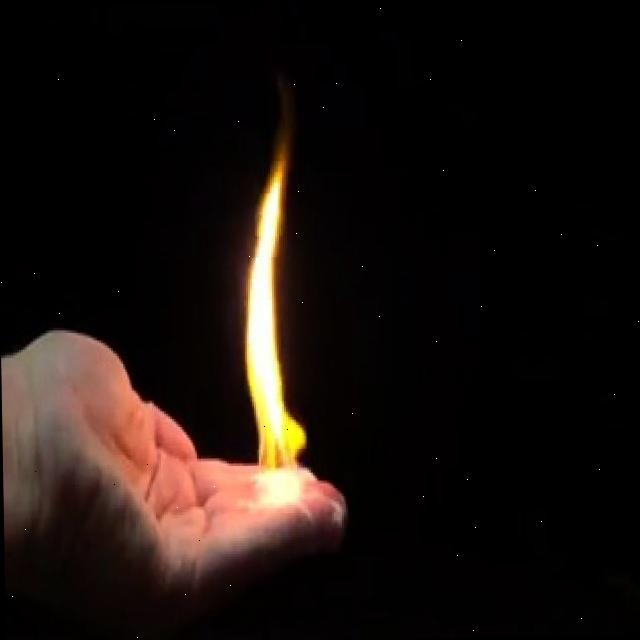fire: (228, 165, 308, 538)
